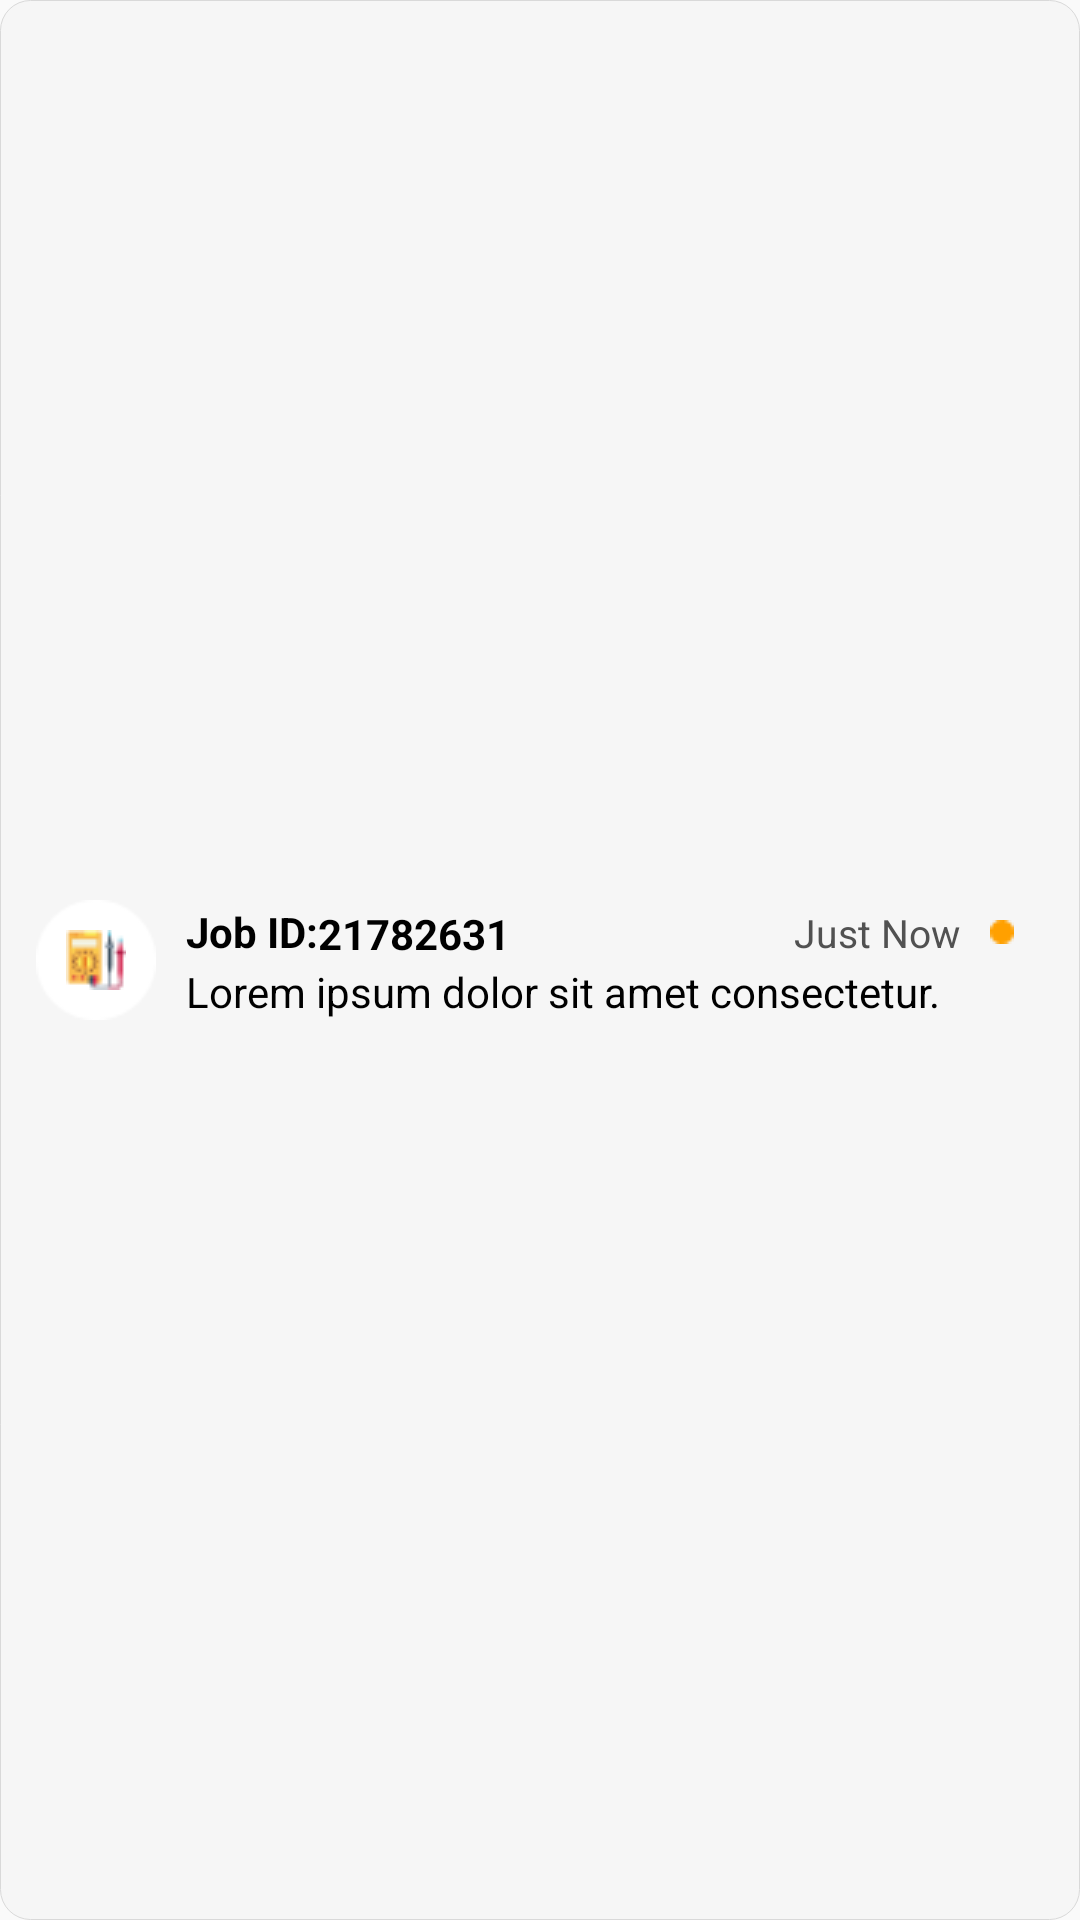

Where icons sit on this 1080*1920 app screen, as {"left": x1, "top": y1, "right": x2, "bottom": y2}:
electrician: {"left": 66, "top": 930, "right": 126, "bottom": 990}
